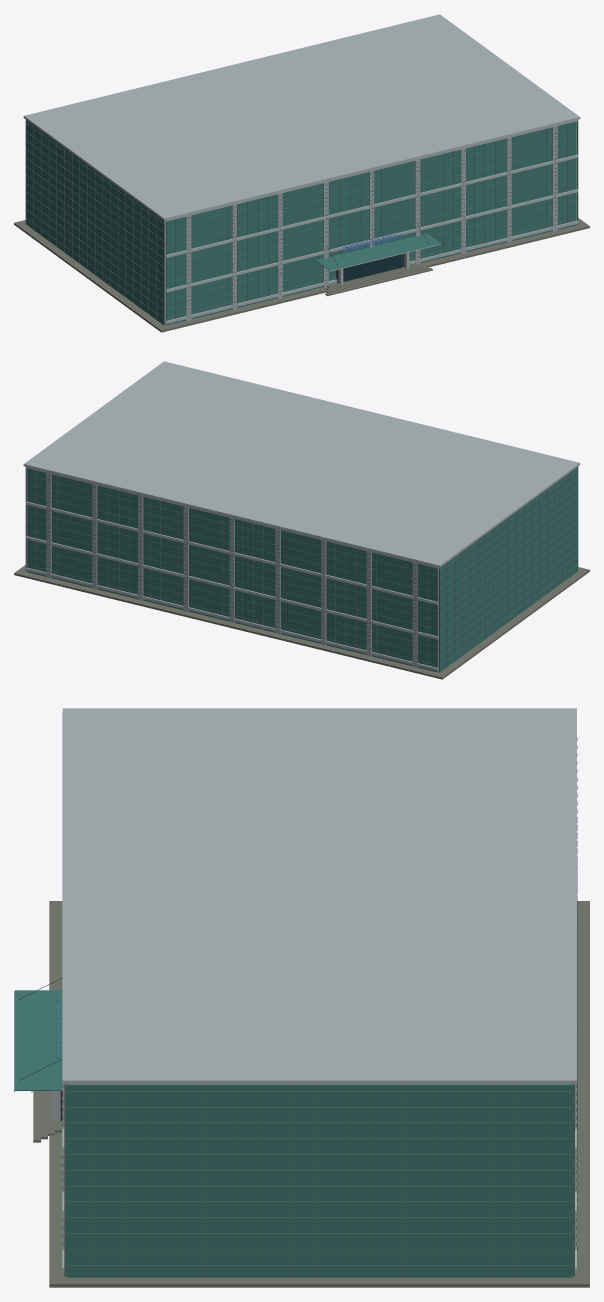
Rendered from equipment.glb.
The picture shows the model from 3 angles, top to bottom: view 1: azimuth 30°, elevation 25°; view 2: azimuth 150°, elevation 25°; view 3: azimuth 270°, elevation 25°; orthographic projection. The views are drawn at different scales.
Visible parts, largest first — view 1: equipment; view 2: equipment; view 3: equipment.
Part boxes in pixels (<box>): equipment: <box>14,14,589,332</box>; equipment: <box>14,361,589,679</box>; equipment: <box>14,708,589,1287</box>.
Bounding box in the file's own units: 104 × 25.53 × 66.07.
